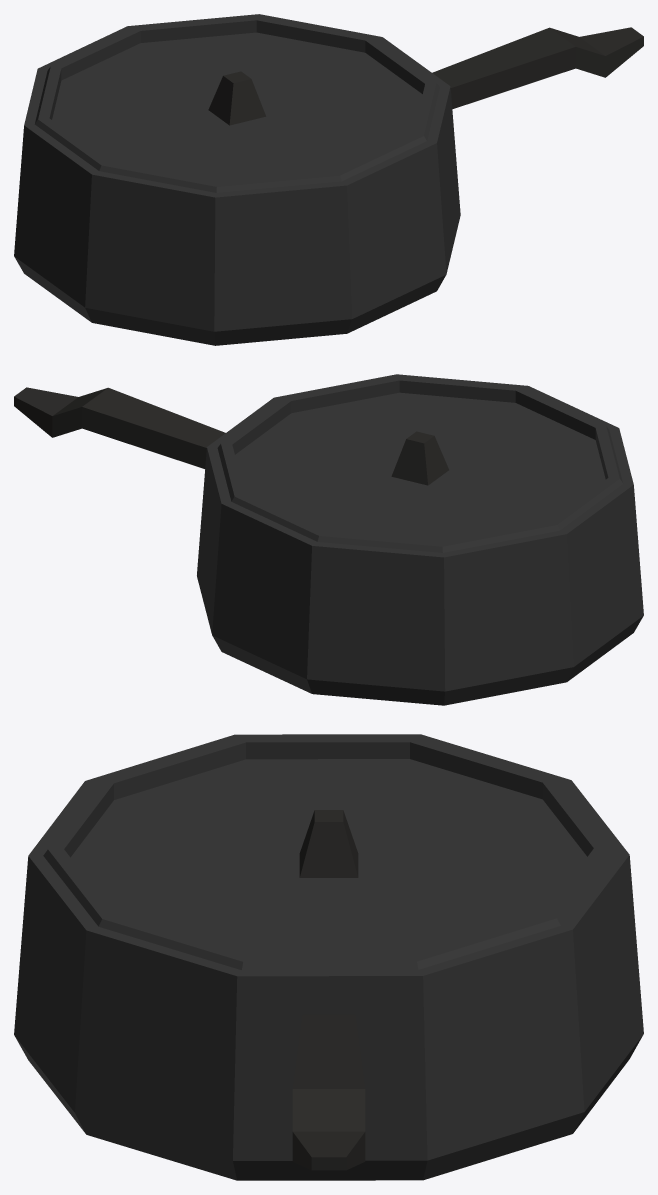
The model's file is Cooker_2.fbx.
3 views of the same model, one above another, from view 1: azimuth 30°, elevation 25°; view 2: azimuth 150°, elevation 25°; view 3: azimuth 270°, elevation 25° (orthographic). The views are drawn at different scales.
Parts seen in each view (by area): view 1: polySurface1543; view 2: polySurface1543; view 3: polySurface1543.
Part boxes in pixels (x1,y1,x2,y2): polySurface1543: (14, 14, 643, 345); polySurface1543: (14, 374, 643, 705); polySurface1543: (14, 734, 643, 1180).
Bounding box in the file's own units: 0.6233 × 0.1788 × 0.419.
1 material, 1 textured.
